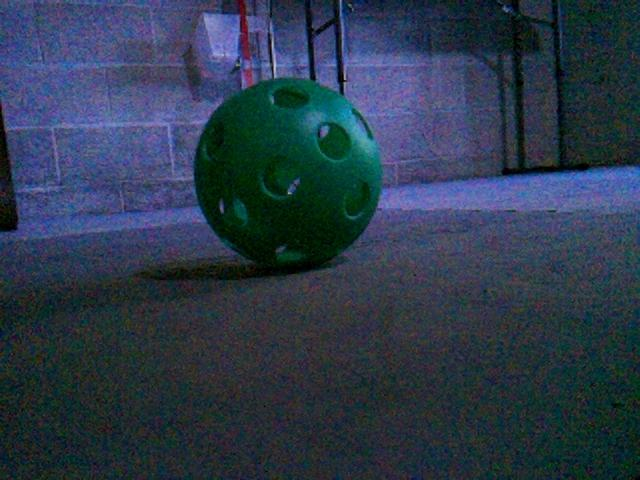Green: (194, 75, 386, 272)
